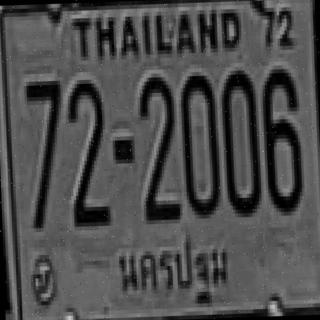N00: (179, 71, 220, 215), (219, 66, 258, 214)
N02: (66, 77, 107, 225), (138, 73, 179, 220)
N06: (259, 65, 300, 212)
N07: (23, 77, 62, 228)
P28: (110, 228, 234, 310)
